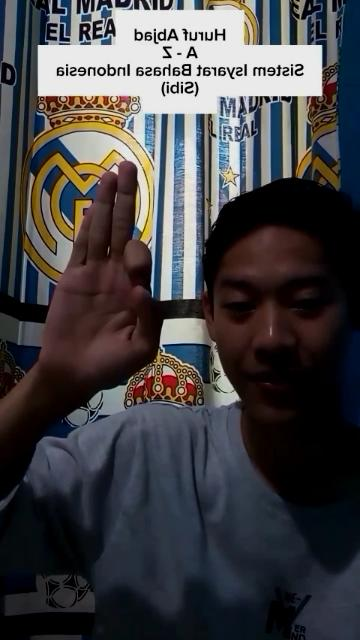F: (34, 158, 165, 382)
